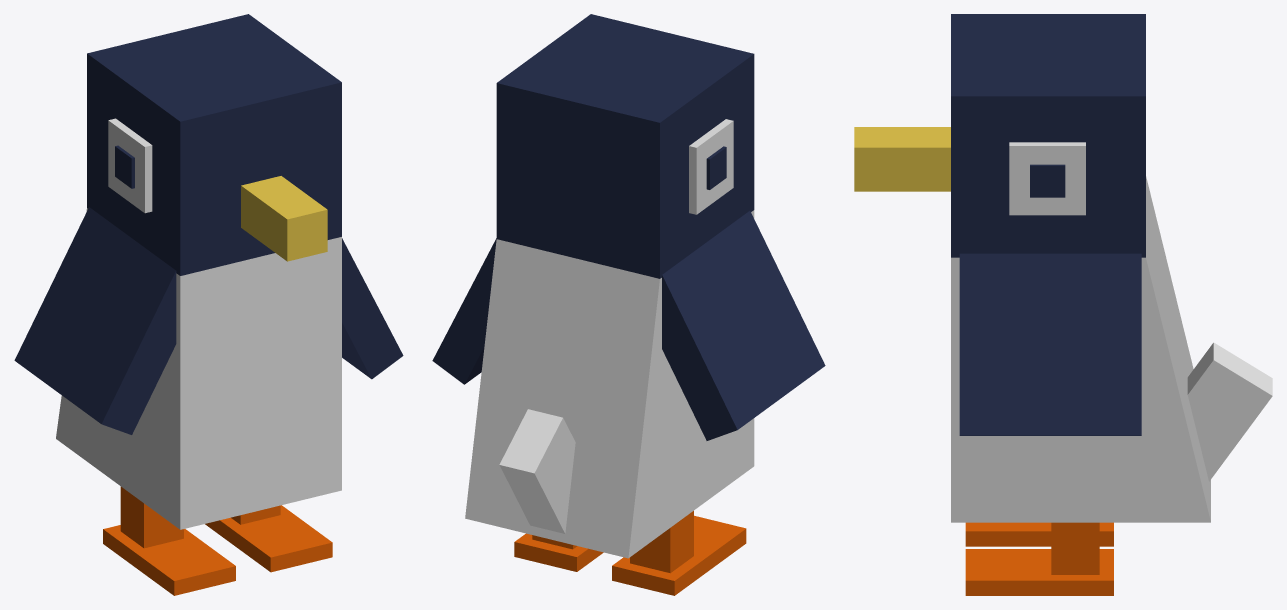
The model's file is 088 Penguin.fbx.
The picture shows the model from 3 angles, left to right: view 1: azimuth 30°, elevation 25°; view 2: azimuth 150°, elevation 25°; view 3: azimuth 270°, elevation 25°; orthographic projection. The views are drawn at different scales.
Parts seen in each view (by area): view 1: Lowpoly_Christmas_Pack_088:pCube2; view 2: Lowpoly_Christmas_Pack_088:pCube2; view 3: Lowpoly_Christmas_Pack_088:pCube2.
Boxes of the visible parts, left/top/right/bottom form: Lowpoly_Christmas_Pack_088:pCube2: left=14, top=14, right=403, bottom=595; Lowpoly_Christmas_Pack_088:pCube2: left=432, top=14, right=825, bottom=595; Lowpoly_Christmas_Pack_088:pCube2: left=854, top=14, right=1272, bottom=595.
Bounding box in the file's own units: 1.58 × 2.39 × 1.81.
